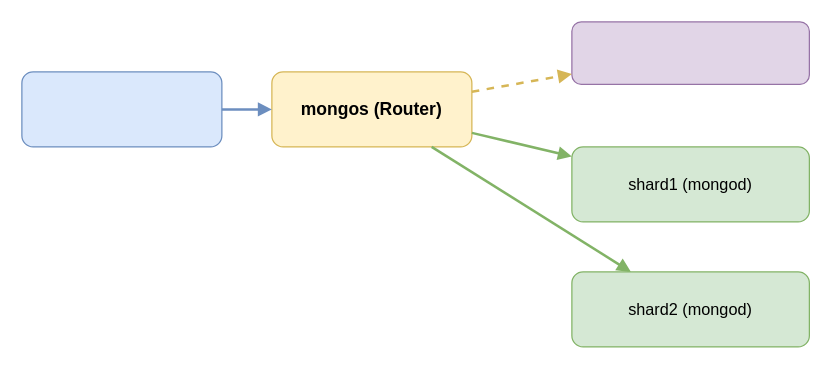
This 831x369 diagram has some shape labels left out. The shapes that lost their labels are listed below. From the top down, each one's centre as x and y in pixels, then its label:
the point at 690,52: configSrv (Config Server)
the point at 121,109: pymongo-api (App)
